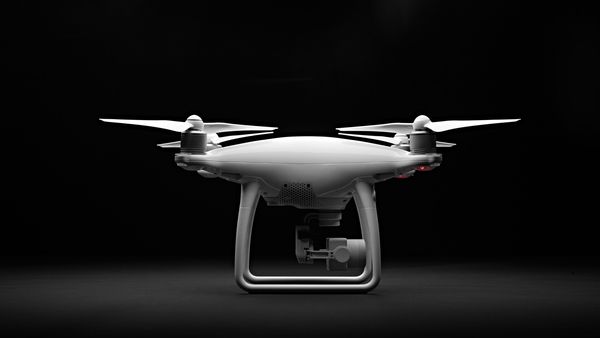drone: (94, 113, 523, 294)
